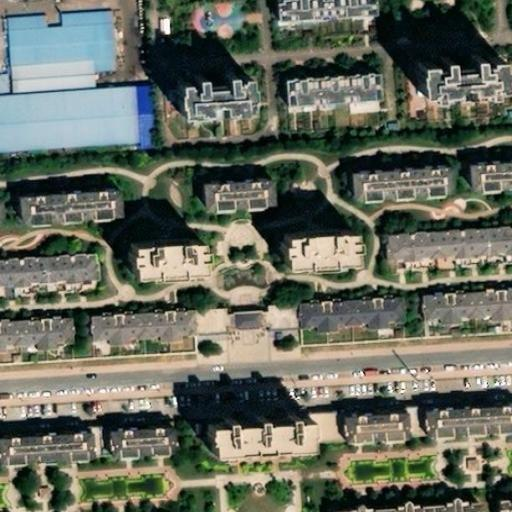building: (11, 43, 122, 109), (384, 242, 512, 281), (213, 429, 317, 470), (315, 424, 431, 459), (2, 447, 94, 490), (418, 300, 512, 341), (0, 252, 96, 292), (311, 304, 408, 340), (132, 252, 204, 299), (284, 247, 357, 293), (292, 77, 388, 111), (23, 204, 113, 240), (364, 188, 461, 221), (93, 321, 192, 353), (179, 83, 256, 123), (424, 70, 505, 104), (430, 421, 512, 454), (0, 325, 73, 361), (207, 194, 277, 227), (347, 428, 411, 464), (111, 438, 177, 472), (351, 498, 486, 512), (264, 317, 312, 345), (468, 180, 512, 208), (7, 0, 117, 11), (90, 445, 115, 481), (490, 495, 511, 512), (154, 13, 168, 33)
